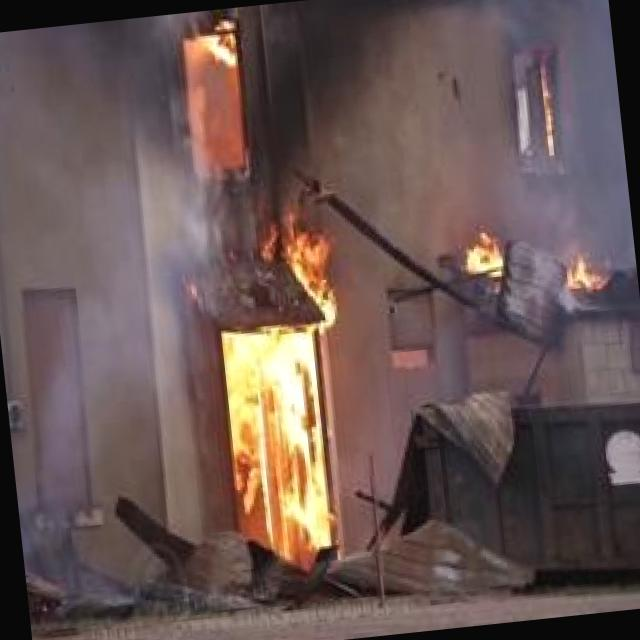fire: (216, 316, 350, 545), (170, 7, 267, 184)
